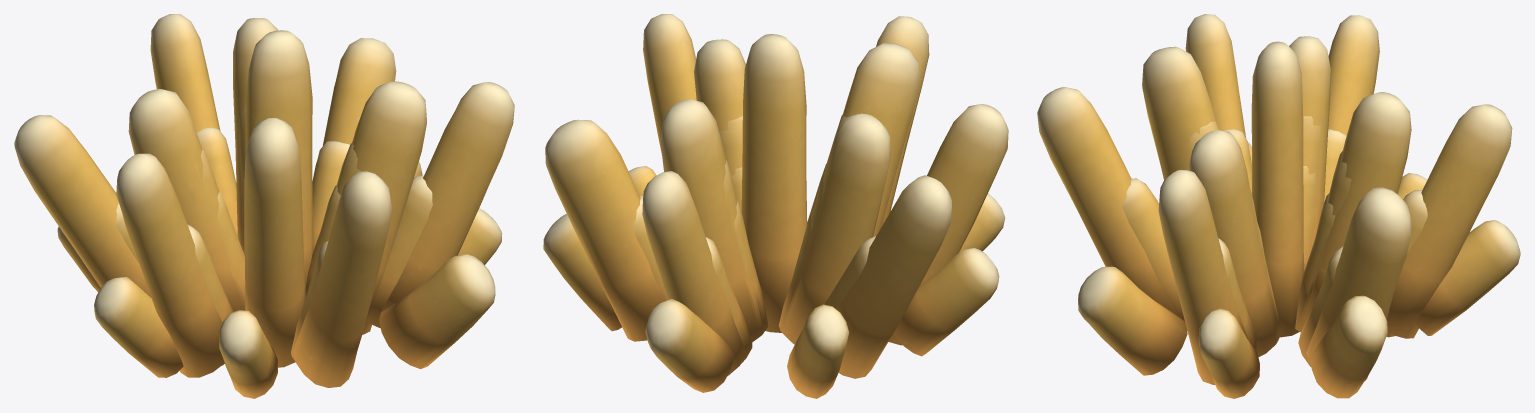
The model's file is FingerCoral.fbx.
3 views of the same model, side by side, from view 1: azimuth 30°, elevation 25°; view 2: azimuth 150°, elevation 25°; view 3: azimuth 270°, elevation 25° (orthographic). The views are drawn at different scales.
Visible parts, largest first — view 1: FingerCoral_S3, FingerCoral_S2, FingerCoral_S1; view 2: FingerCoral_S3, FingerCoral_S2, FingerCoral_S1; view 3: FingerCoral_S3, FingerCoral_S2, FingerCoral_S1.
Boxes of the visible parts, bbox=[...] form: FingerCoral_S3: bbox=[14, 14, 514, 398]; FingerCoral_S2: bbox=[116, 105, 432, 365]; FingerCoral_S1: bbox=[217, 163, 340, 301]; FingerCoral_S3: bbox=[543, 14, 1008, 398]; FingerCoral_S2: bbox=[633, 114, 875, 363]; FingerCoral_S1: bbox=[731, 163, 827, 341]; FingerCoral_S3: bbox=[1037, 14, 1520, 398]; FingerCoral_S2: bbox=[1122, 116, 1427, 367]; FingerCoral_S1: bbox=[1257, 166, 1335, 340].
Size of the model in its own units: 0.3859 by 0.2725 by 0.4072.
